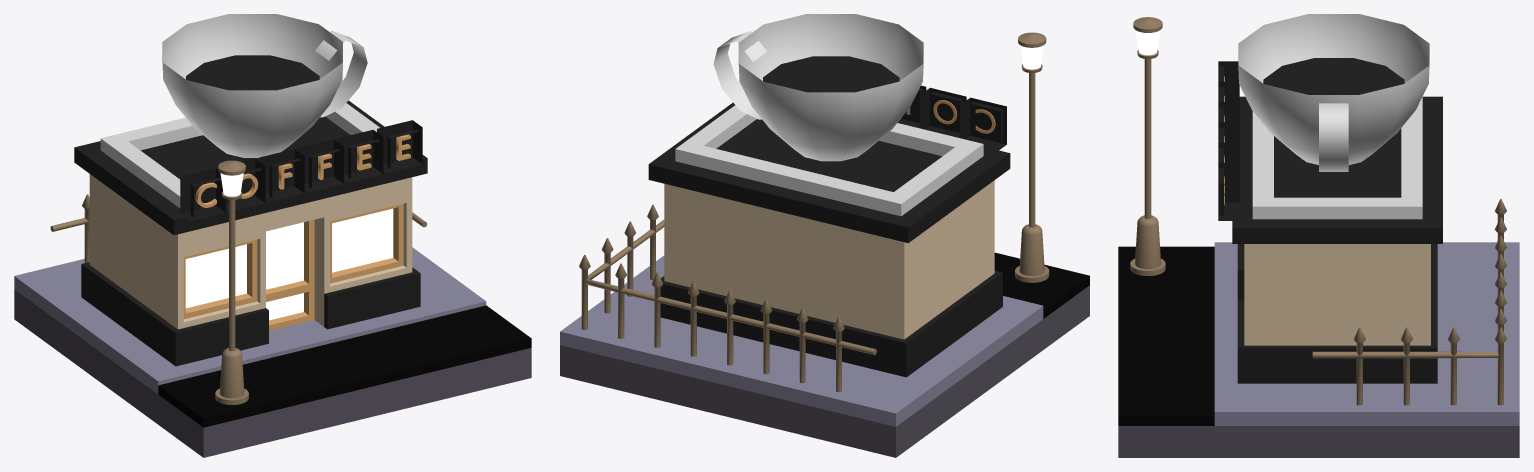
The model's file is coffee.gltf.
3 views of the same model, side by side, from view 1: azimuth 30°, elevation 25°; view 2: azimuth 150°, elevation 25°; view 3: azimuth 270°, elevation 25° (orthographic). The views are drawn at different scales.
Parts seen in each view (by area): view 1: Plane.004, Plane.002, Circle.001, Plane, Plane.001, Plane.008, Plane.005, Plane.003, Circle.003, Plane.006, Circle, Plane.007 (+8 smaller); view 2: Plane.004, Plane.001, Circle.001, Plane, Plane.005, Plane.008, Plane.003, Plane.016, Circle.003, Circle, Plane.002, Plane.009 (+2 smaller); view 3: Plane.001, Plane.004, Circle.001, Plane.002, Plane.005, Plane, Plane.008, Plane.003, Plane.016, Circle.003, Circle, Circle.002 (+6 smaller).
Boxes of the visible parts, x1,y1,x2,y2 form: Plane.004: (89,174,412,329); Plane.002: (158,305,531,427); Circle.001: (162,14,342,157); Plane: (14,289,531,457); Plane.001: (14,247,486,393); Plane.008: (81,262,420,366); Plane.005: (74,100,427,235); Plane.003: (100,103,379,208); Circle.003: (186,55,319,90); Plane.006: (183,203,403,319); Circle: (215,160,248,404); Plane.007: (266,219,314,330); Plane.004: (664,180,994,339); Plane.001: (560,255,1043,426); Circle.001: (738,14,923,161); Plane: (560,285,1089,457); Plane.005: (648,102,1010,243); Plane.008: (660,270,1002,377); Plane.003: (675,105,983,216); Plane.016: (579,204,876,391); Circle.003: (763,56,899,92); Circle: (1015,32,1049,282); Plane.002: (994,252,1089,318); Plane.009: (960,97,1006,151); Plane.001: (1214,242,1519,425); Plane.004: (1244,244,1430,345); Circle.001: (1238,14,1429,164); Plane.002: (1118,246,1214,425); Plane.005: (1232,96,1442,243); Plane: (1118,426,1519,457); Plane.008: (1237,244,1437,383); Plane.003: (1252,97,1422,219); Plane.016: (1312,199,1506,405); Circle.003: (1263,58,1404,94); Circle: (1130,17,1165,275); Circle.002: (1319,103,1348,171).
Bounding box in the file's own units: 8 × 6.86 × 8.
